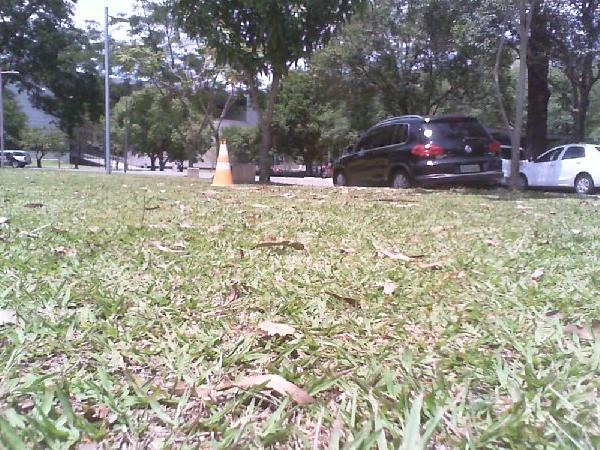0 cone: (211, 140, 234, 187)
